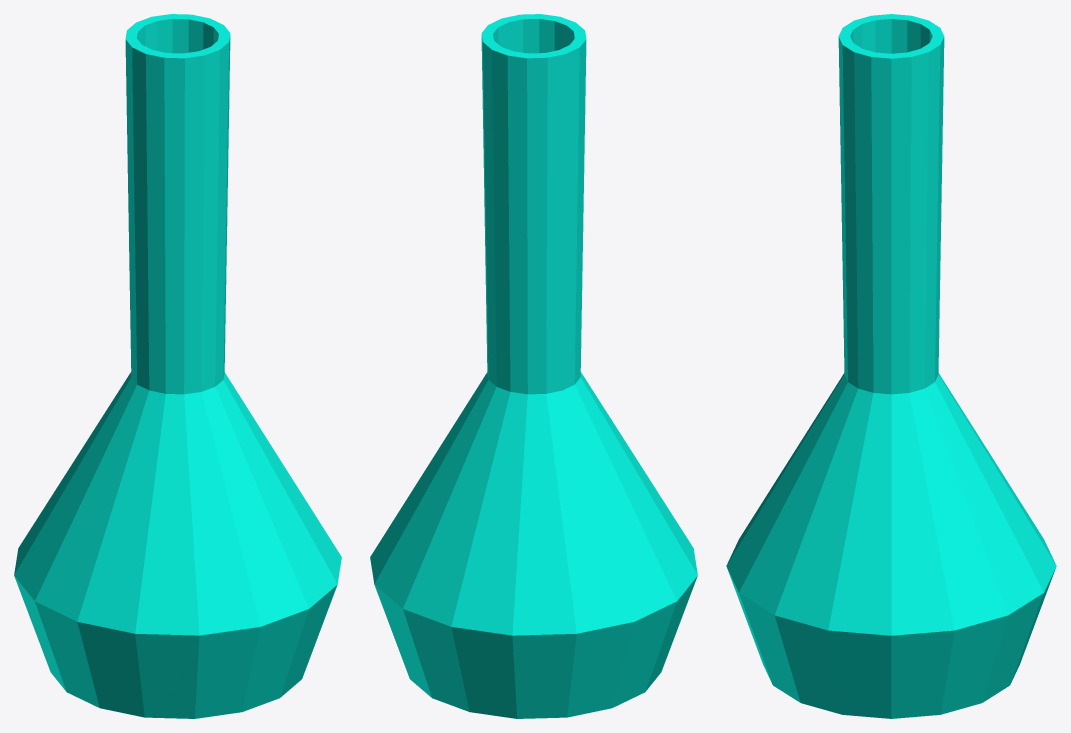
The model's file is 5 flask1.fbx.
3 renders of one model, left to right at view 1: azimuth 30°, elevation 25°; view 2: azimuth 150°, elevation 25°; view 3: azimuth 270°, elevation 25°, orthographic.
Parts seen in each view (by area): view 1: 5 flask1; view 2: 5 flask1; view 3: 5 flask1.
Part boxes in pixels (x1,y1,x2,y2): 5 flask1: (14,14,341,718); 5 flask1: (370,14,697,718); 5 flask1: (726,14,1056,718).
Size of the model in its own units: 11.14 by 23.38 by 11.14.
